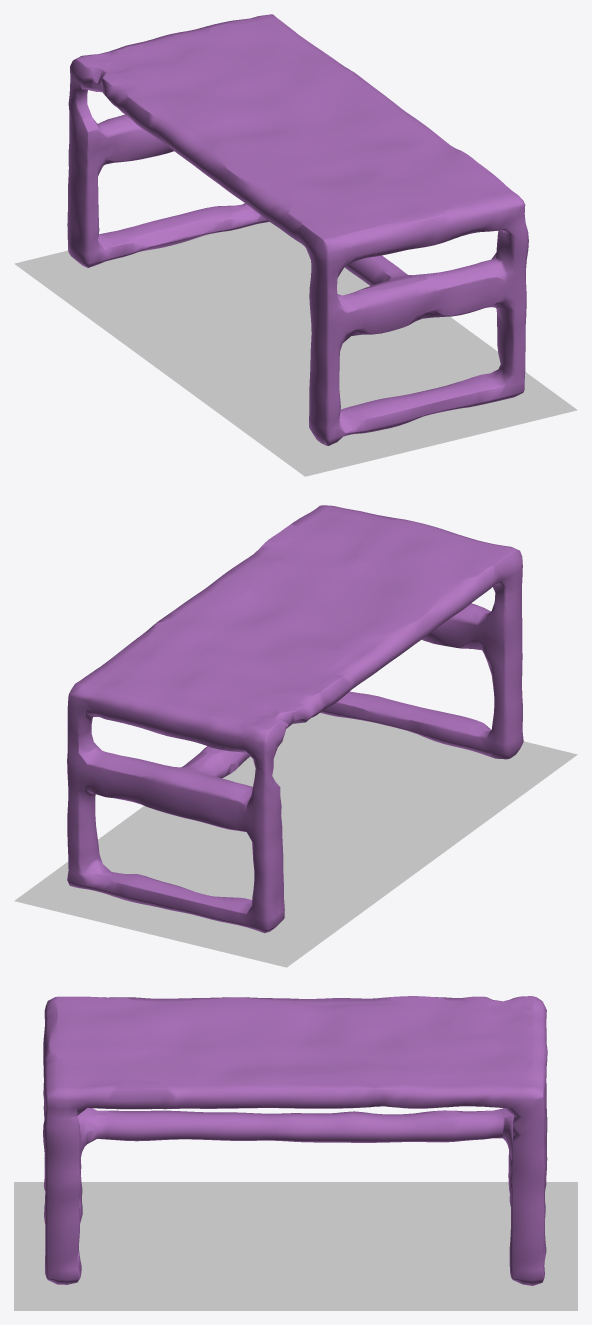
Rendered from desk.glb.
The picture shows the model from 3 angles, top to bottom: view 1: azimuth 30°, elevation 25°; view 2: azimuth 150°, elevation 25°; view 3: azimuth 270°, elevation 25°; orthographic projection. The views are drawn at different scales.
Visible parts, largest first — view 1: Library-4659, world; view 2: Library-4659, world; view 3: Library-4659, world.
Part boxes in pixels (left/top/right/bottom): Library-4659: left=67, top=14, right=528, bottom=445; world: left=14, top=222, right=577, bottom=476; Library-4659: left=67, top=505, right=523, bottom=933; world: left=14, top=713, right=577, bottom=967; Library-4659: left=43, top=996, right=547, bottom=1285; world: left=14, top=1182, right=577, bottom=1310.
Bounding box in the file's own units: 0.4816 × 0.359 × 0.8905.
